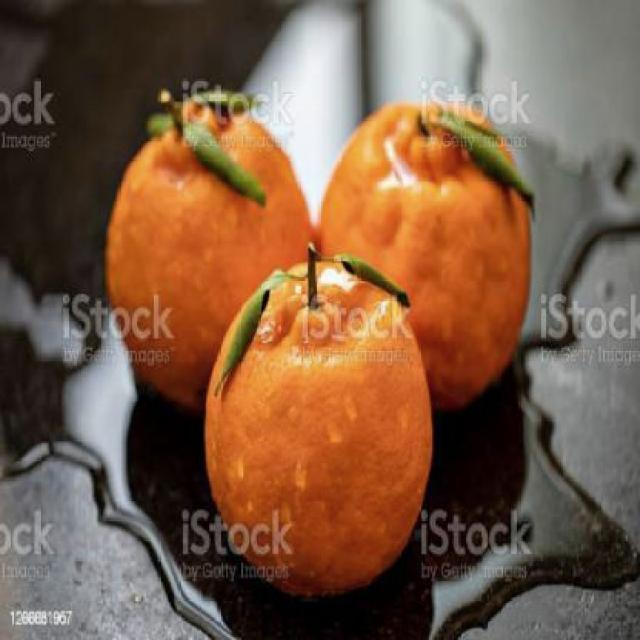Jeruk Sudah Matang: (204, 257, 436, 592), (314, 105, 530, 418), (108, 96, 317, 402)
